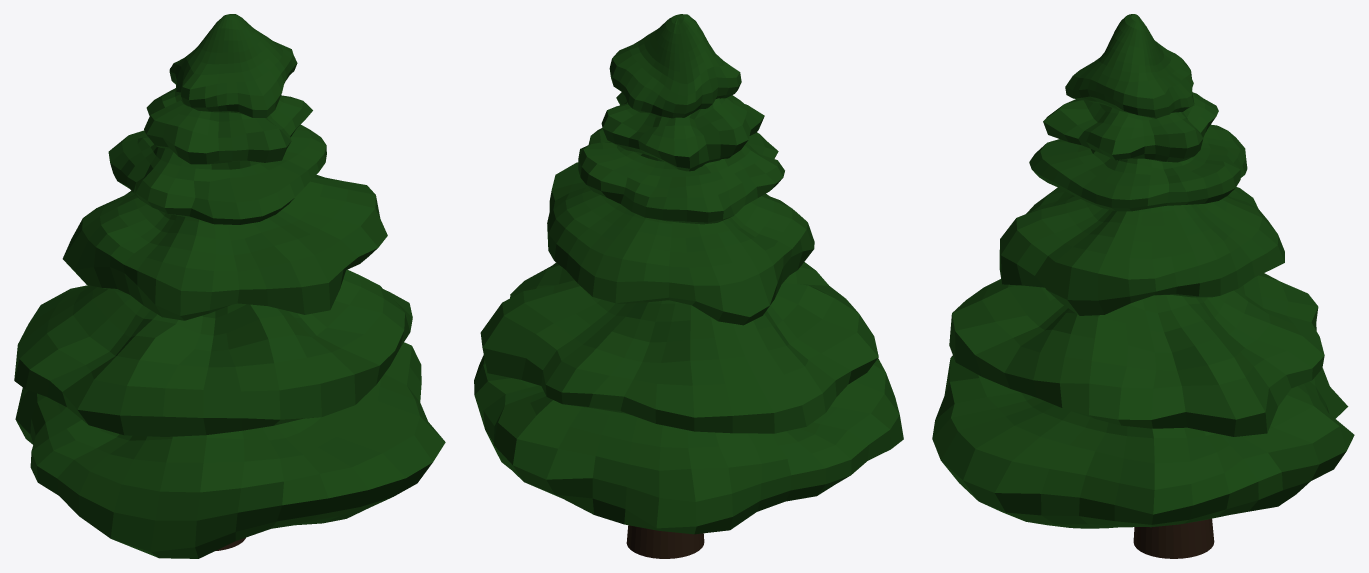
Rendered from Tree5.fbx.
3 views of the same model, side by side, from view 1: azimuth 30°, elevation 25°; view 2: azimuth 150°, elevation 25°; view 3: azimuth 270°, elevation 25° (orthographic). The views are drawn at different scales.
Parts seen in each view (by area): view 1: Tree5_LOD0; view 2: Tree5_LOD0; view 3: Tree5_LOD0.
Boxes of the visible parts, bbox=[...] form: Tree5_LOD0: bbox=[14, 14, 445, 558]; Tree5_LOD0: bbox=[474, 14, 903, 558]; Tree5_LOD0: bbox=[932, 14, 1354, 558].
Size of what is drawn, in the model's own units: 164 by 216 by 157.
